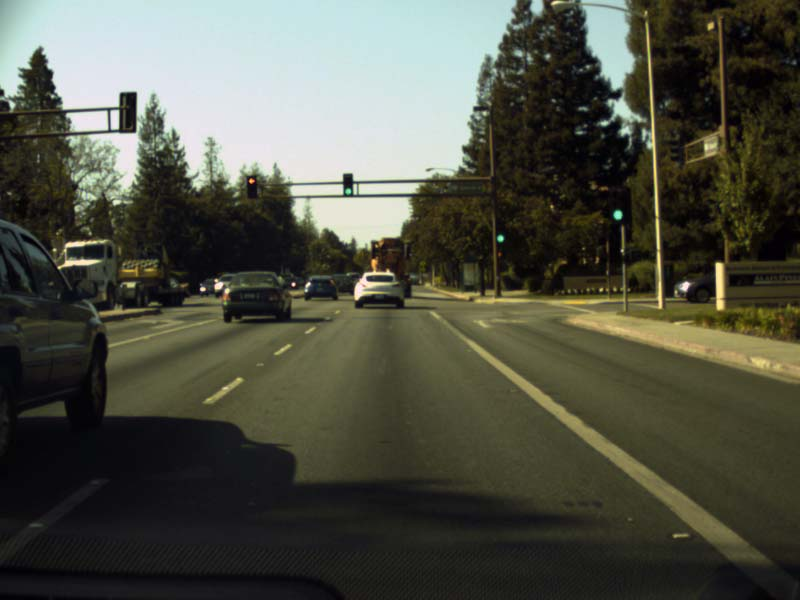Green: (607, 185, 629, 225), (495, 218, 507, 244), (342, 173, 352, 194)
Red: (246, 176, 256, 197)
